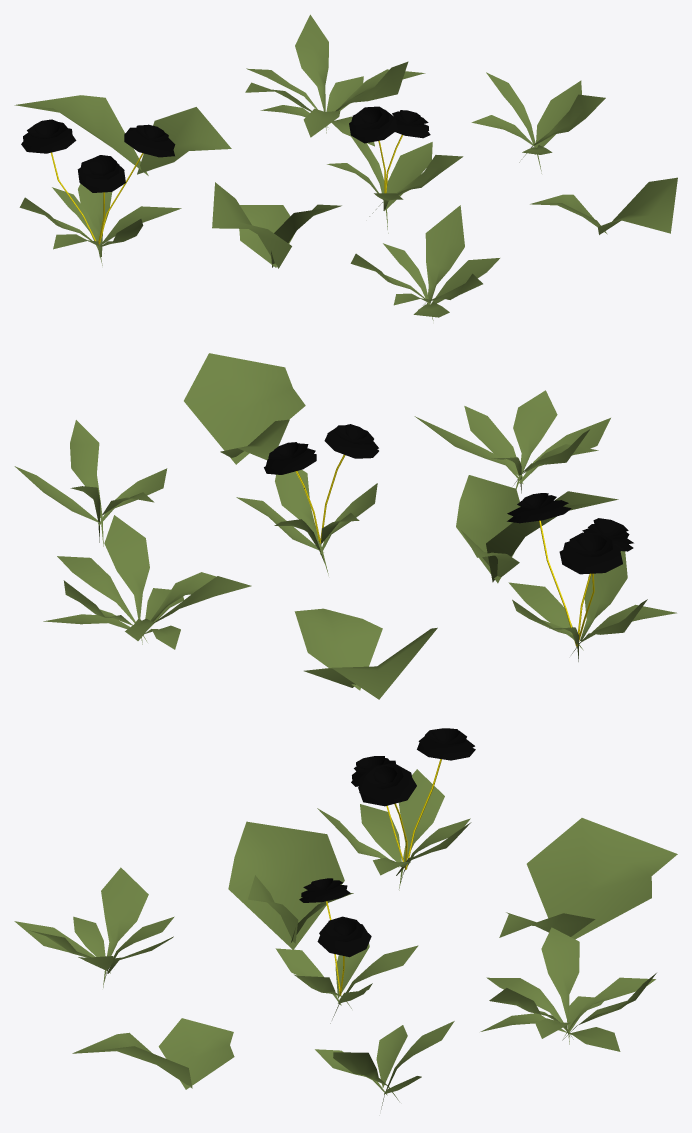
File: dandelion.fbx
The picture shows the model from 3 angles, top to bottom: view 1: azimuth 30°, elevation 25°; view 2: azimuth 150°, elevation 25°; view 3: azimuth 270°, elevation 25°; orthographic projection. The views are drawn at different scales.
Parts seen in each view (by area): view 1: Weed_Dandellion_A_spring-summer; view 2: Weed_Dandellion_A_spring-summer; view 3: Weed_Dandellion_A_spring-summer.
Boxes of the visible parts, x1=… form: Weed_Dandellion_A_spring-summer: x1=14, y1=14, x2=677, y2=320; Weed_Dandellion_A_spring-summer: x1=14, y1=353, x2=676, y2=699; Weed_Dandellion_A_spring-summer: x1=14, y1=728, x2=677, y2=1109.
Bounding box in the file's own units: 111 × 26.93 × 109.
